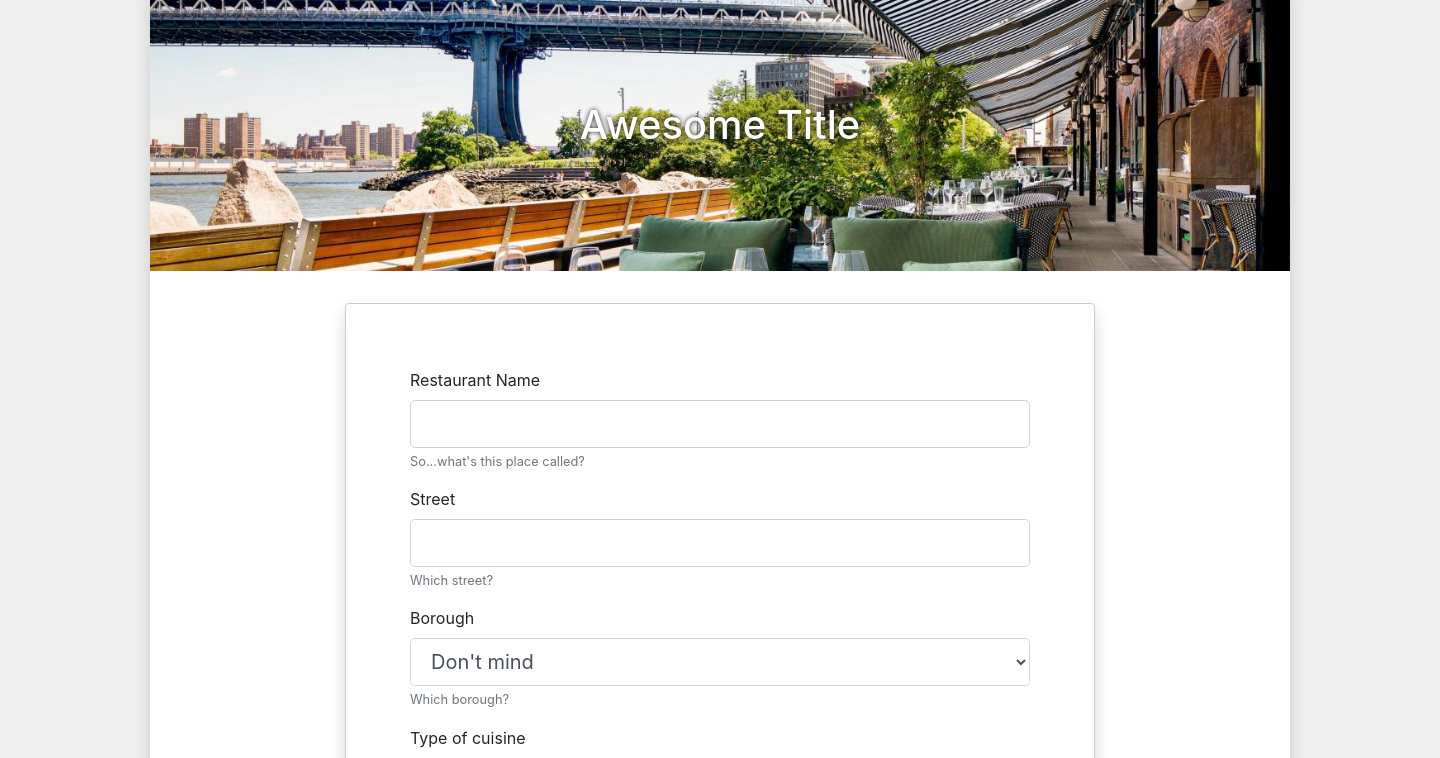
Common works as expected › Perform a search › should display a message if no results are returned
Type "Sushi" into the field with test id "name" at [720, 424], box [410, 400, 1030, 448]
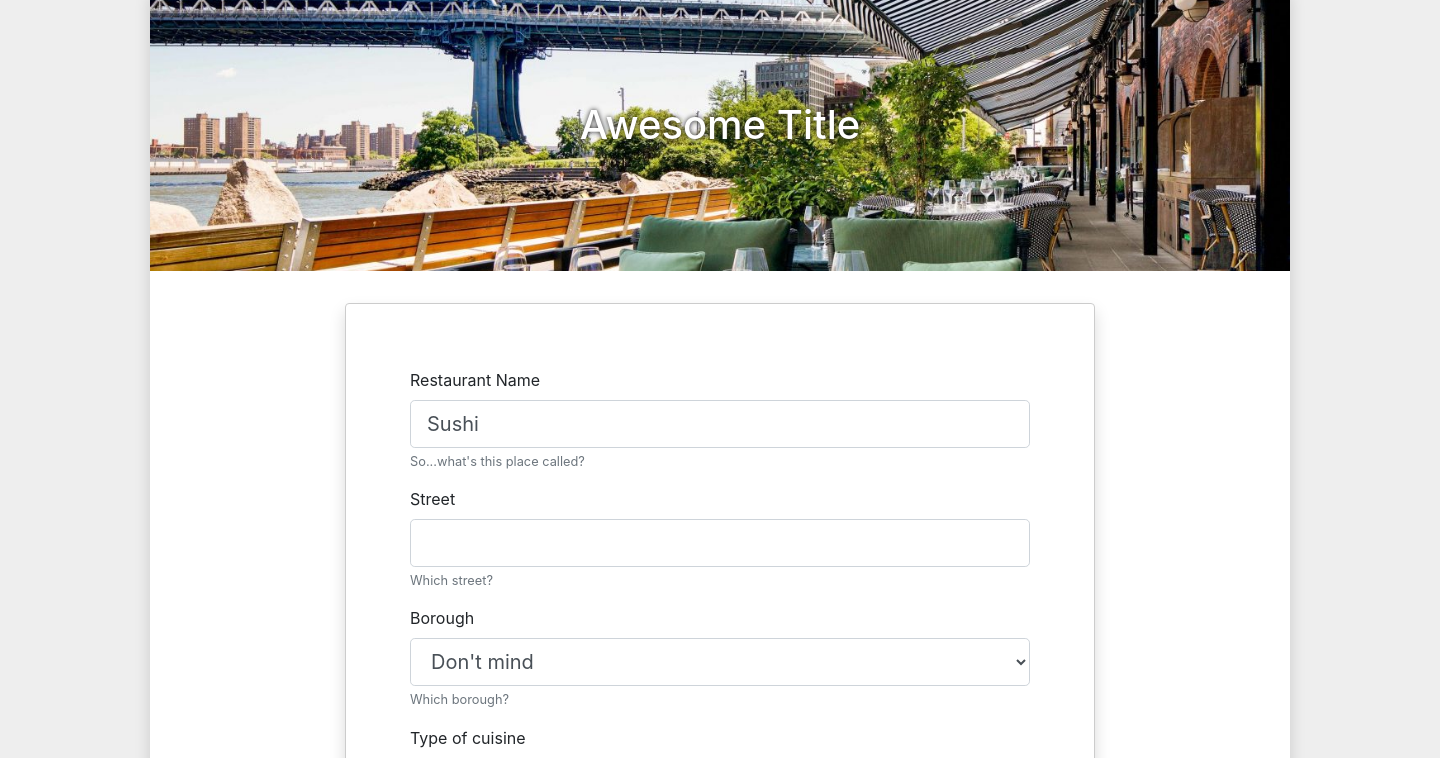
Type "27 street" into the field with test id "street" at [720, 543], box [410, 519, 1030, 567]
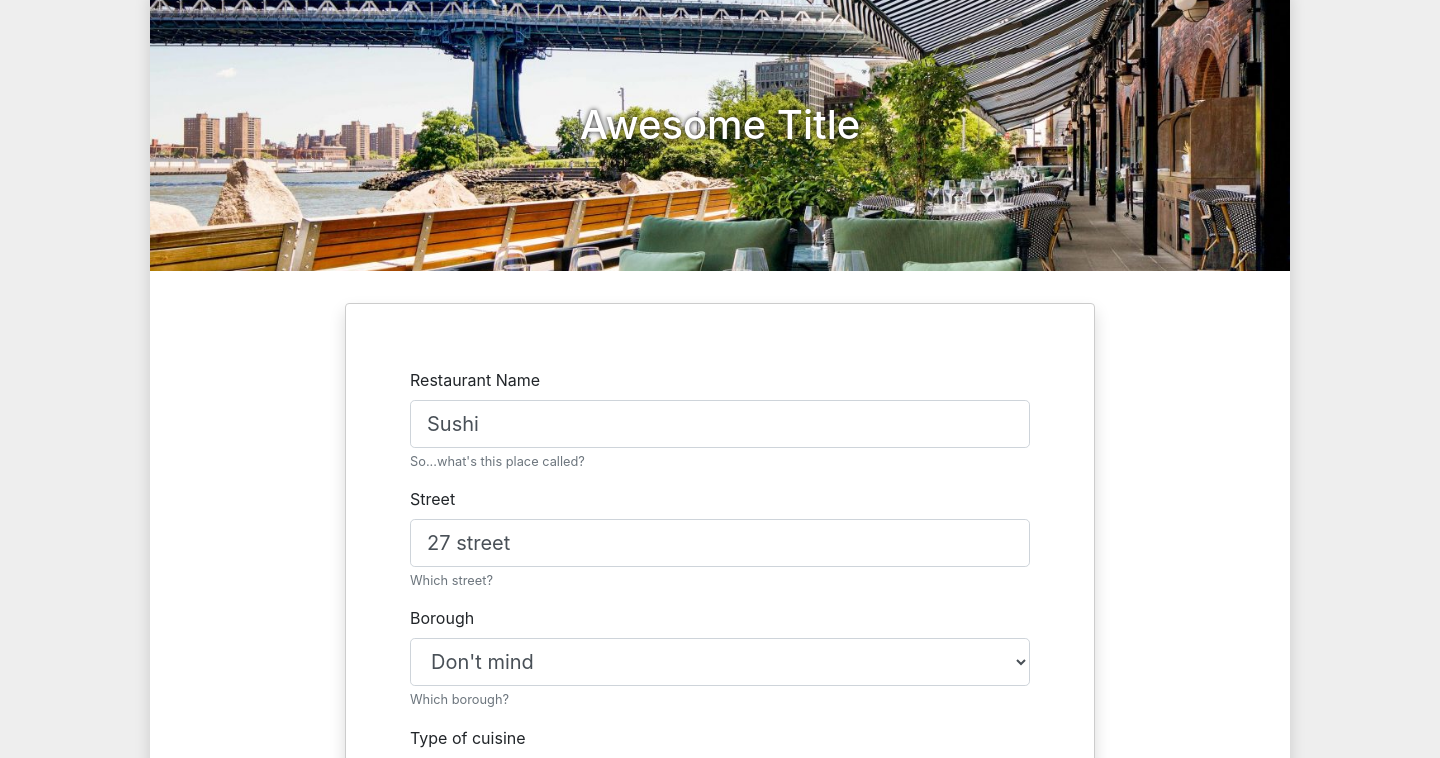
Select "Queens" in the dropdown with test id "boro" at [720, 662], box [410, 638, 1030, 686]
(page scrolled)
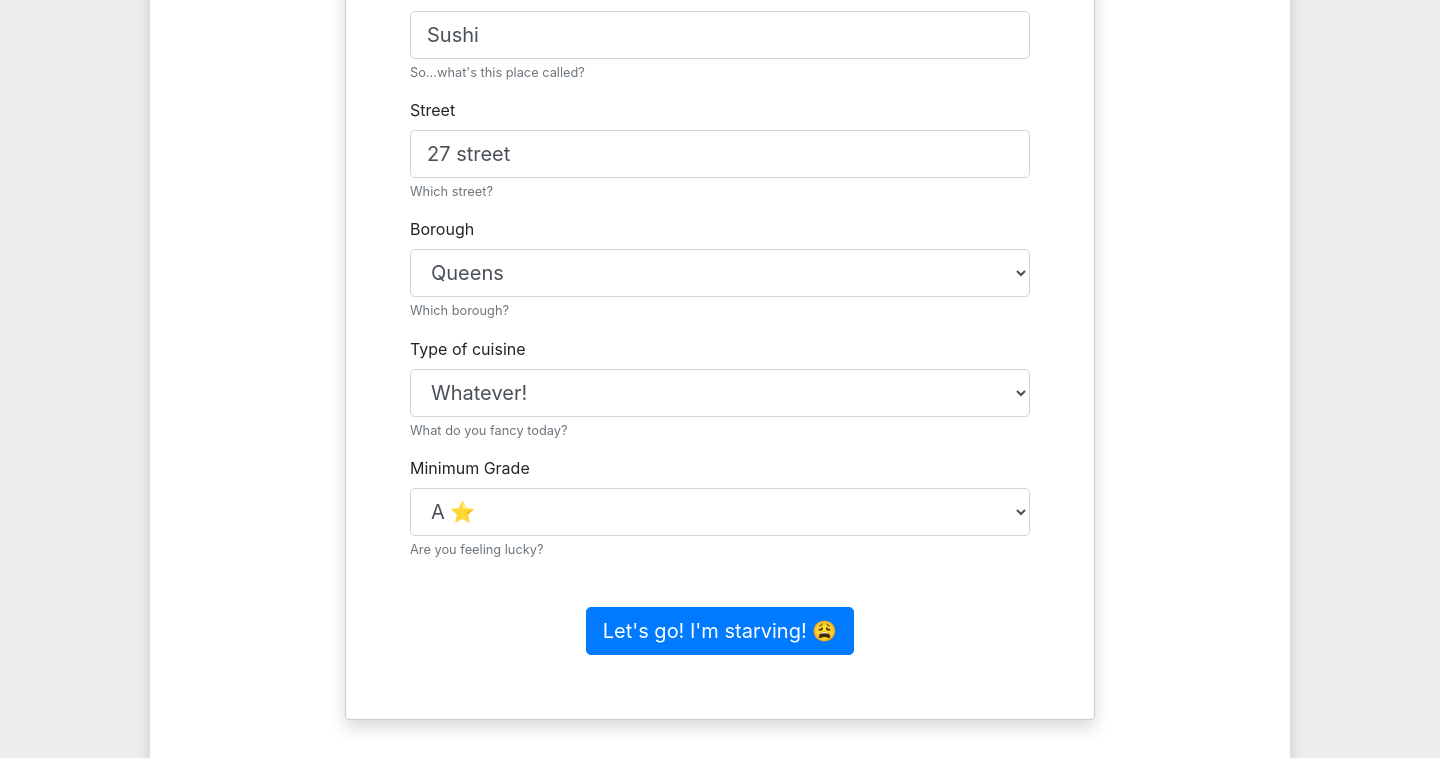
Select "Japanese" in the dropdown with test id "cuisine" at [720, 393], box [410, 369, 1030, 417]
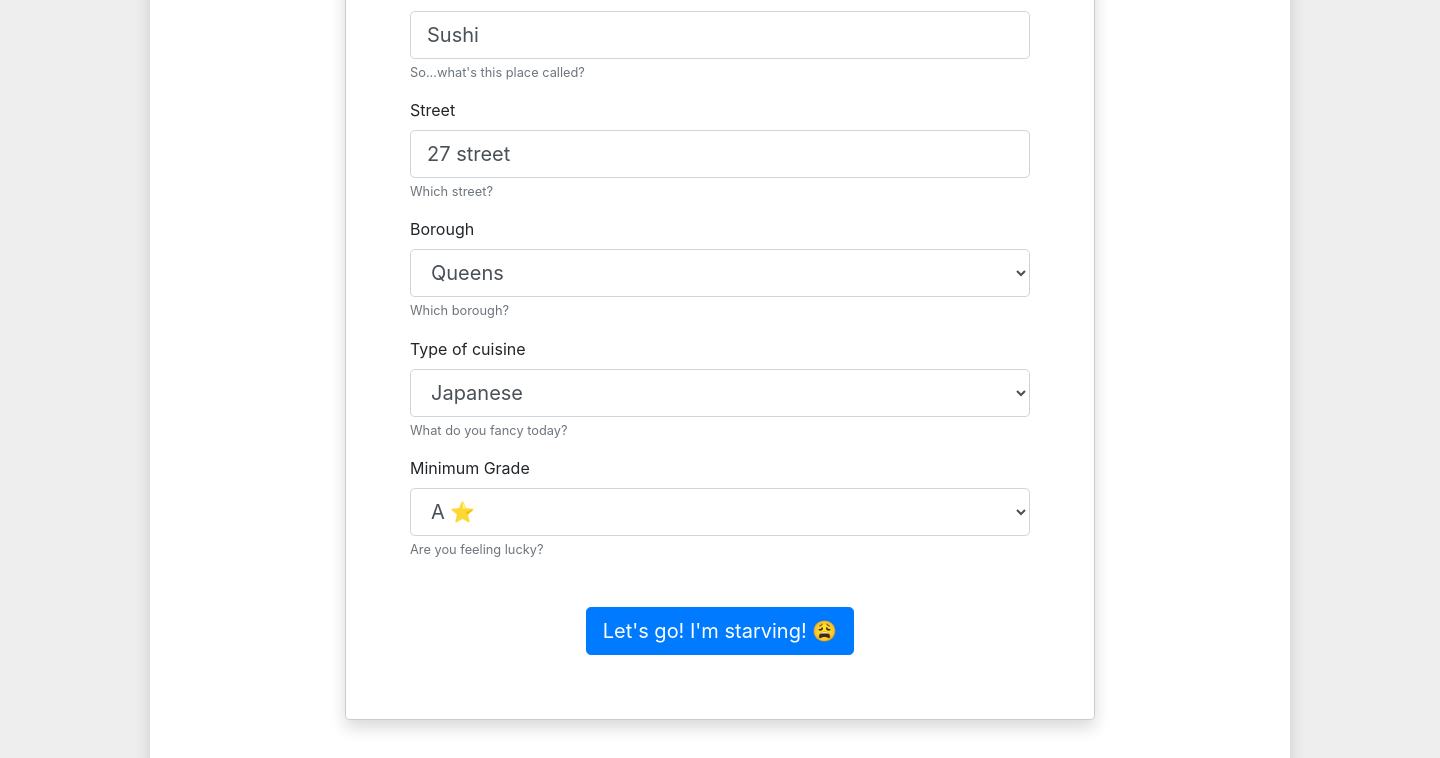
Select "C 😕" in the dropdown with test id "minGrade" at [720, 512], box [410, 488, 1030, 536]
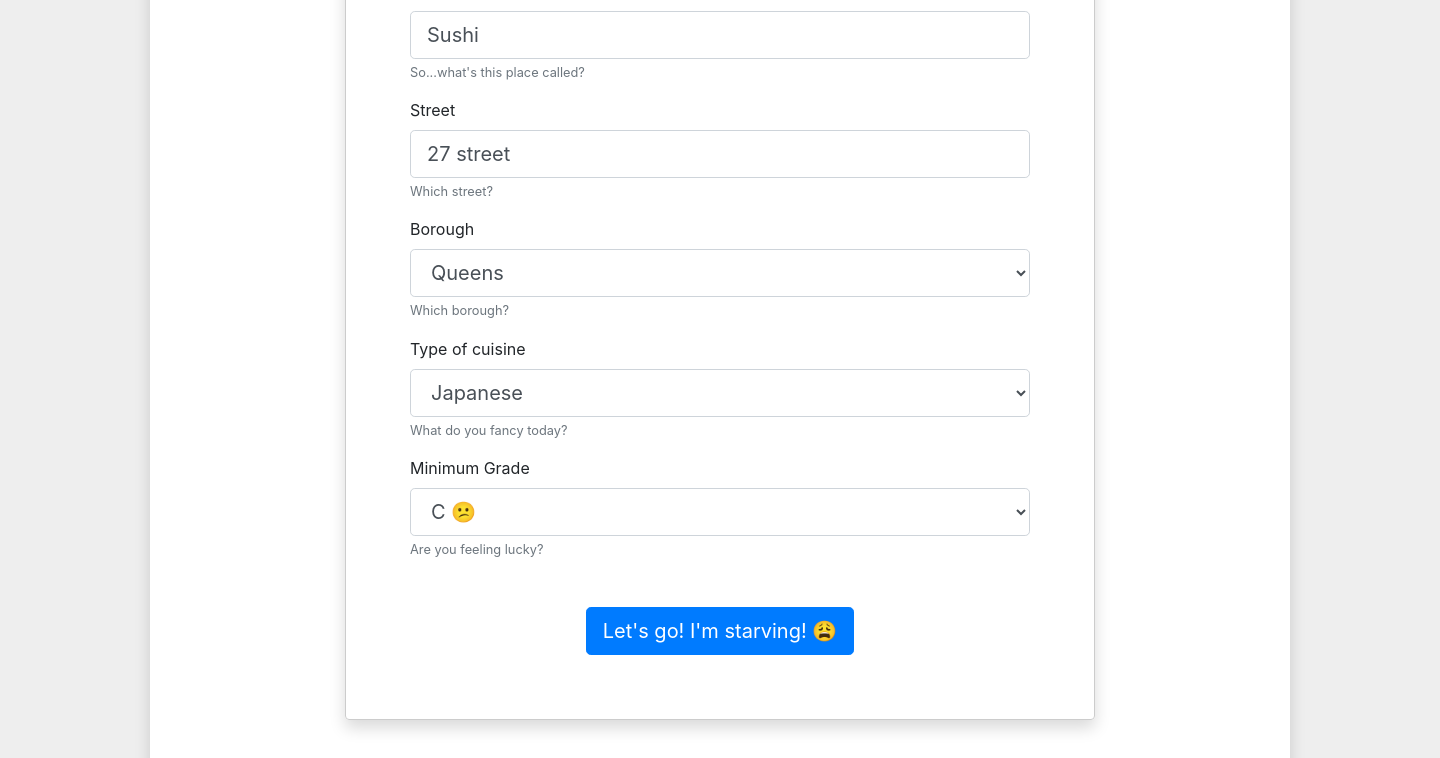
Click the button with test id "submit" at [720, 631], box [586, 607, 854, 655]
(page scrolled)
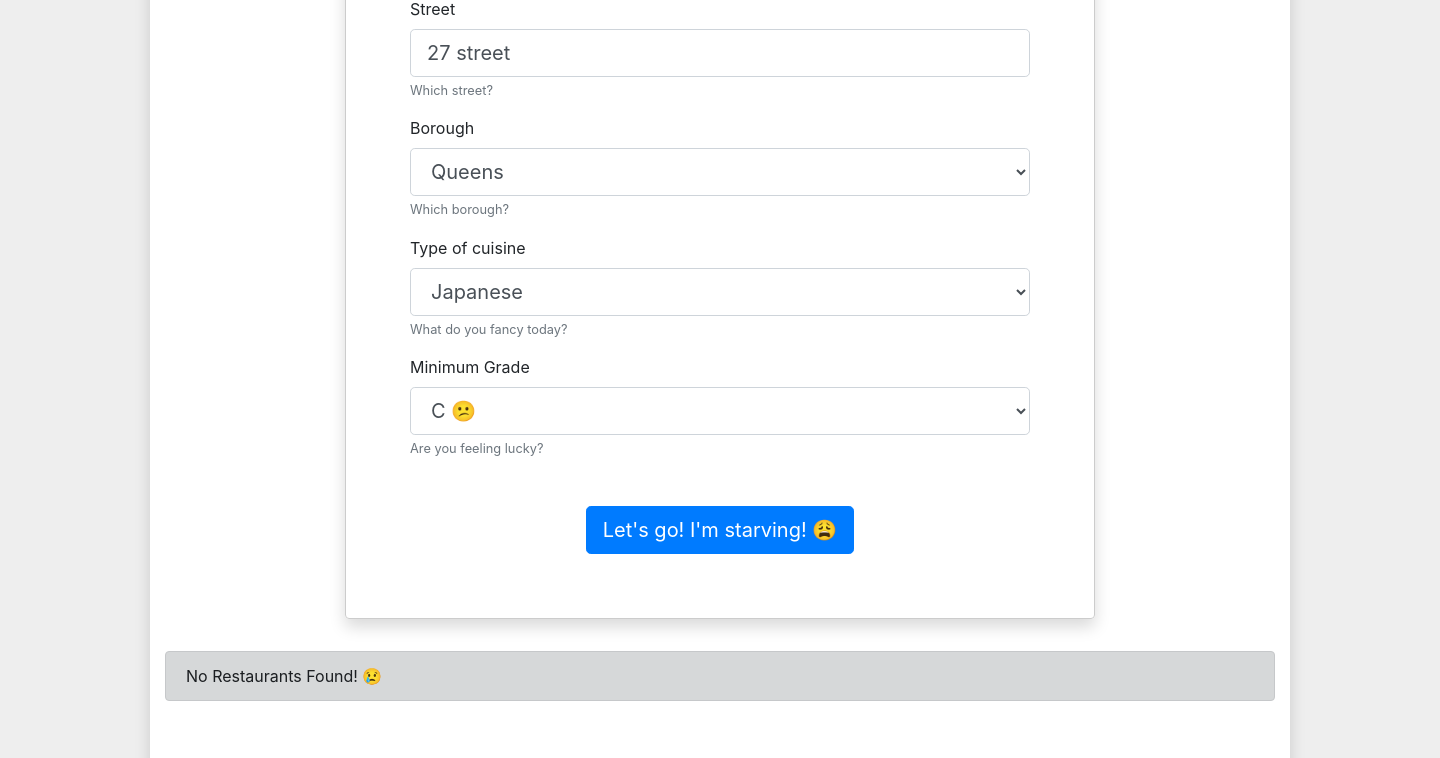
expect the message "No Restaurants Found! 😢" is shown: met, box [165, 651, 1275, 701]
